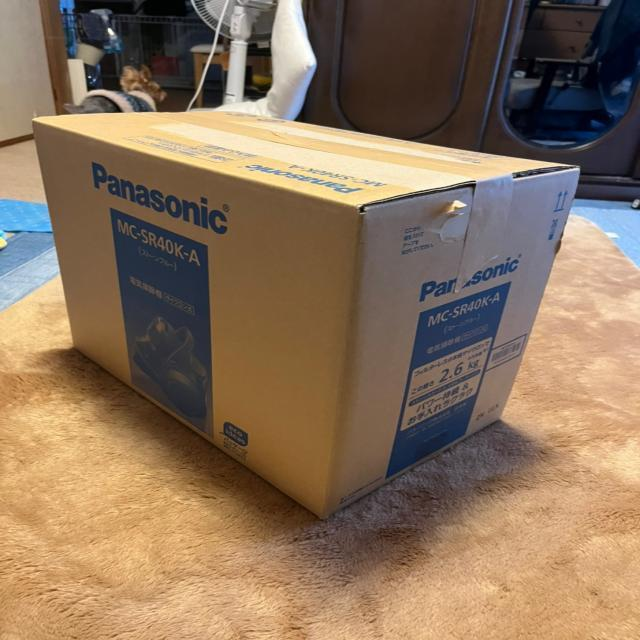box: (28, 102, 594, 520)
